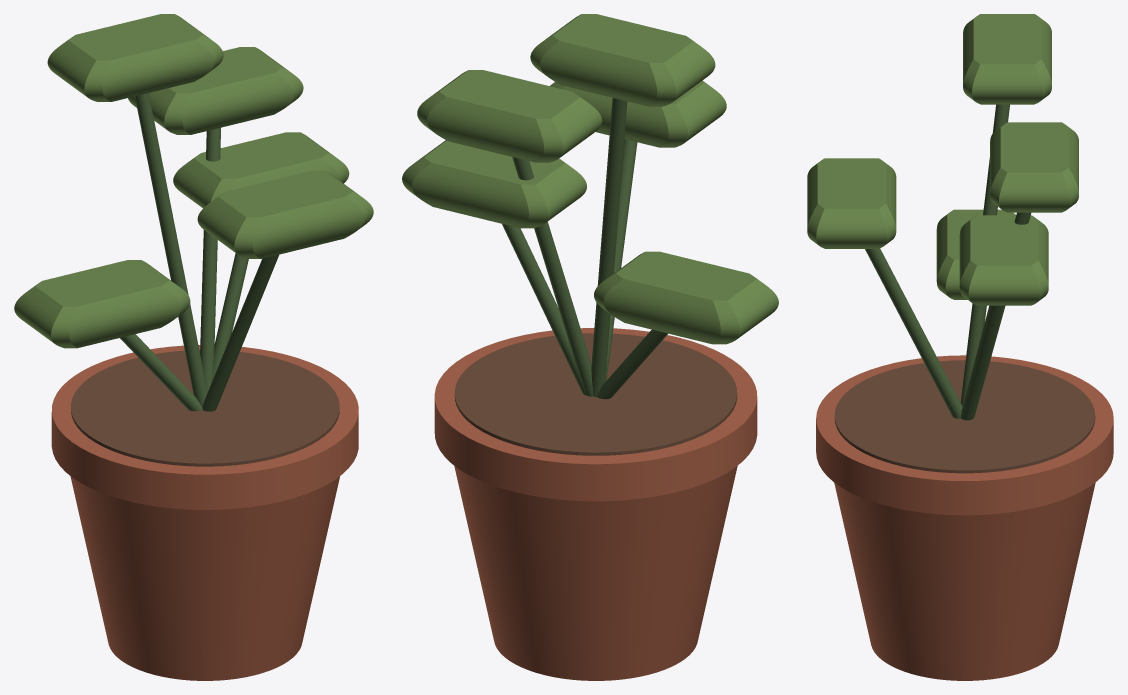
File: potted_plant.glb
3 views of the same model, side by side, from view 1: azimuth 30°, elevation 25°; view 2: azimuth 150°, elevation 25°; view 3: azimuth 270°, elevation 25° (orthographic). The views are drawn at different scales.
Visible parts, largest first — view 1: Terracotta pot, Soil, Pot rim, Leaf, Leaf.002, Leaf.003, Leaf.004, Leaf.001, Plant stem.003, Plant stem.004, Plant stem.002, Plant stem.001 (+1 smaller); view 2: Terracotta pot, Soil, Pot rim, Leaf, Leaf.003, Leaf.004, Leaf.001, Leaf.002, Plant stem.003, Plant stem.004, Plant stem.001, Plant stem.002 (+1 smaller); view 3: Terracotta pot, Soil, Pot rim, Leaf.002, Leaf.004, Leaf.003, Leaf.001, Plant stem.002, Leaf, Plant stem.001, Plant stem.003.
Boxes of the visible parts, left/top/right/bottom form: Terracotta pot: left=70, top=476, right=339, bottom=680; Soil: left=71, top=350, right=339, bottom=466; Pot rim: left=51, top=345, right=358, bottom=509; Leaf: left=14, top=260, right=190, bottom=348; Leaf.002: left=197, top=171, right=373, bottom=258; Leaf.003: left=47, top=14, right=223, bottom=101; Leaf.004: left=128, top=47, right=303, bottom=134; Leaf.001: left=173, top=132, right=349, bottom=208; Plant stem.003: left=135, top=93, right=207, bottom=407; Plant stem.004: left=200, top=127, right=220, bottom=391; Plant stem.002: left=202, top=254, right=278, bottom=411; Plant stem.001: left=212, top=253, right=248, bottom=381; Terracotta pot: left=454, top=466, right=737, bottom=680; Soil: left=454, top=333, right=737, bottom=455; Pot rim: left=434, top=328, right=757, bottom=501; Leaf: left=594, top=251, right=778, bottom=344; Leaf.003: left=530, top=14, right=715, bottom=106; Leaf.004: left=417, top=70, right=602, bottom=162; Leaf.001: left=402, top=140, right=586, bottom=228; Leaf.002: left=550, top=80, right=726, bottom=147; Plant stem.003: left=591, top=98, right=627, bottom=396; Plant stem.004: left=512, top=157, right=593, bottom=396; Plant stem.001: left=502, top=224, right=585, bottom=395; Plant stem.002: left=605, top=139, right=637, bottom=381; Terracotta pot: left=834, top=482, right=1095, bottom=680; Soil: left=834, top=360, right=1095, bottom=473; Pot rim: left=816, top=355, right=1113, bottom=515; Leaf.002: left=807, top=158, right=896, bottom=248; Leaf.004: left=990, top=122, right=1078, bottom=212; Leaf.003: left=963, top=14, right=1051, bottom=104; Leaf.001: left=959, top=215, right=1048, bottom=305; Plant stem.002: left=865, top=248, right=962, bottom=418; Leaf: left=936, top=209, right=1015, bottom=299; Plant stem.001: left=961, top=305, right=1003, bottom=420; Plant stem.003: left=960, top=104, right=1009, bottom=406.
Size of the model in its own units: 0.4232 by 0.78 by 0.3738.
